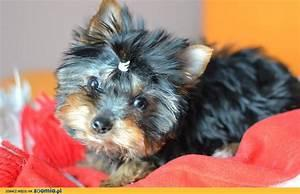dog: (52, 0, 299, 186)
